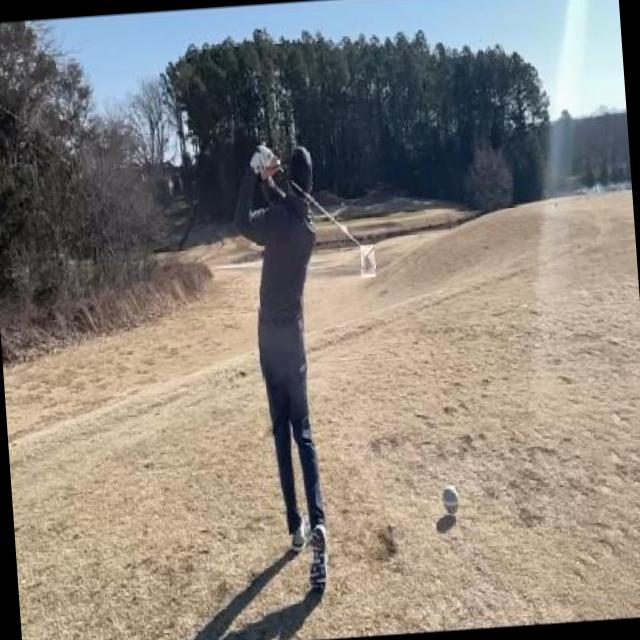club head: (360, 244, 375, 277)
